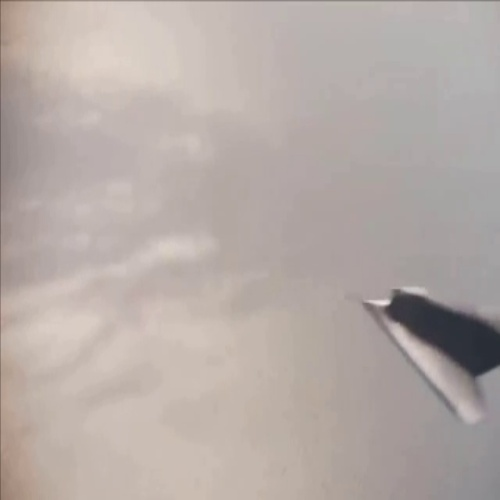uav: (355, 283, 500, 422)
